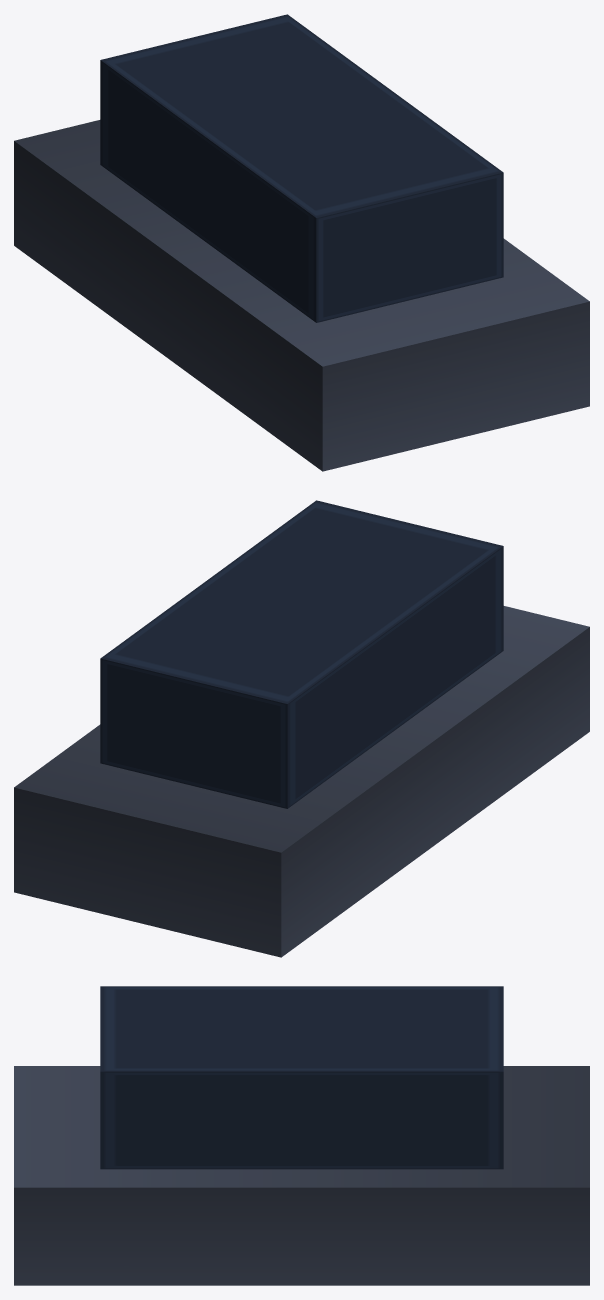
The model's file is KIT_Stair_2x4.glb.
3 renders of one model, top to bottom at view 1: azimuth 30°, elevation 25°; view 2: azimuth 150°, elevation 25°; view 3: azimuth 270°, elevation 25°, orthographic. The views are drawn at different scales.
Visible parts, largest first — view 1: KIT_Stair_2x4; view 2: KIT_Stair_2x4; view 3: KIT_Stair_2x4.
Boxes of the visible parts, x1,y1,x2,y2 form: KIT_Stair_2x4: [14, 14, 589, 471]; KIT_Stair_2x4: [14, 500, 589, 957]; KIT_Stair_2x4: [14, 986, 589, 1285].
Bounding box in the file's own units: 2 × 1.5 × 4.
1 material, 1 textured.
